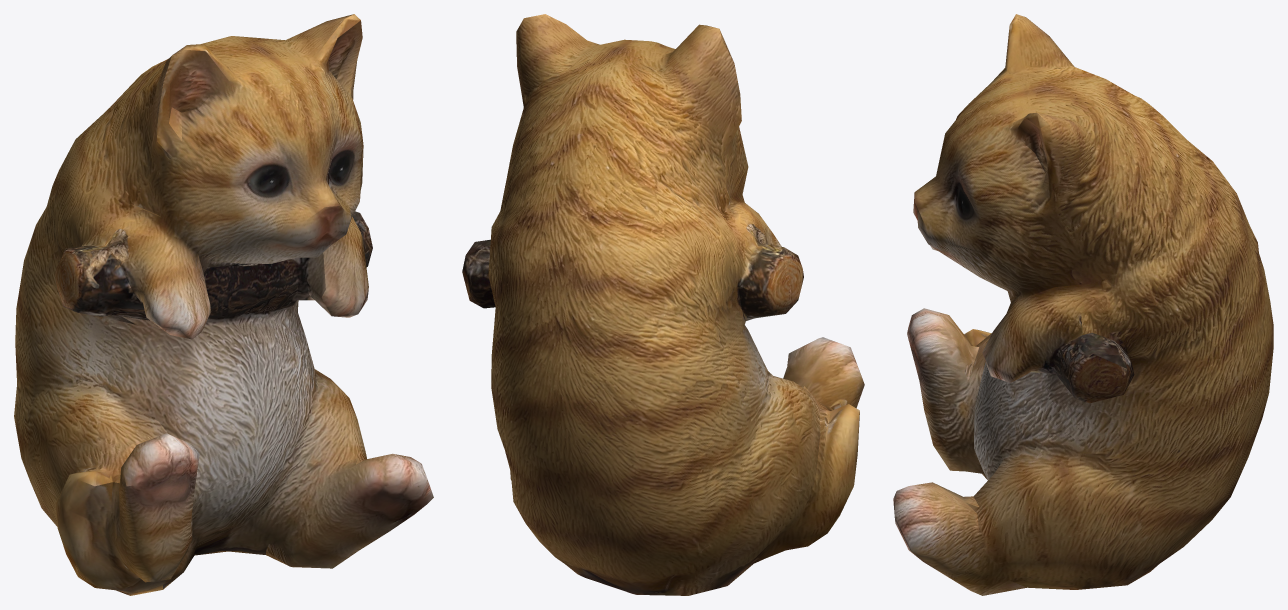
File: kitten.glb
3 renders of one model, left to right at view 1: azimuth 30°, elevation 25°; view 2: azimuth 150°, elevation 25°; view 3: azimuth 270°, elevation 25°, orthographic. The views are drawn at different scales.
Visible parts, largest first — view 1: geo1; view 2: geo1; view 3: geo1.
Boxes of the visible parts, x1,y1,x2,y2 form: geo1: [14, 14, 433, 595]; geo1: [462, 14, 864, 595]; geo1: [893, 14, 1273, 595].
Size of the model in its own units: 0.00101 by 0.00148 by 0.000977.
Materials: 1 (1 with a texture image).
